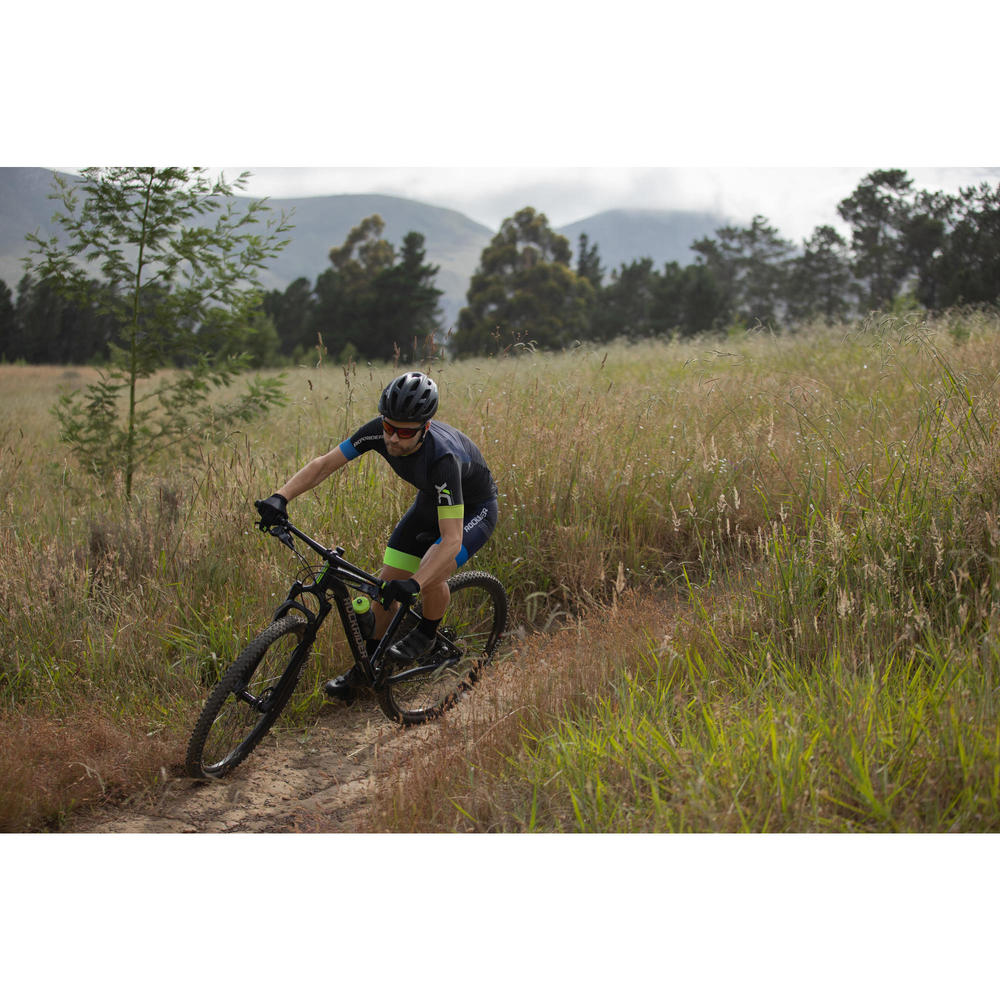MountainBike: (193, 483, 515, 780)
